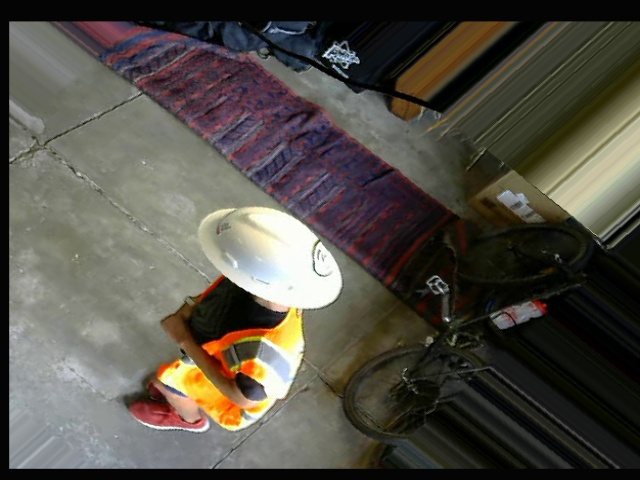three: (298, 239, 344, 278)
